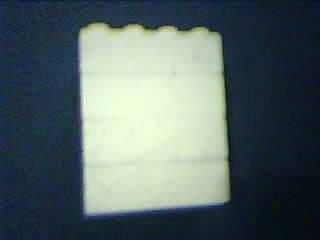lego: (76, 21, 233, 219)
